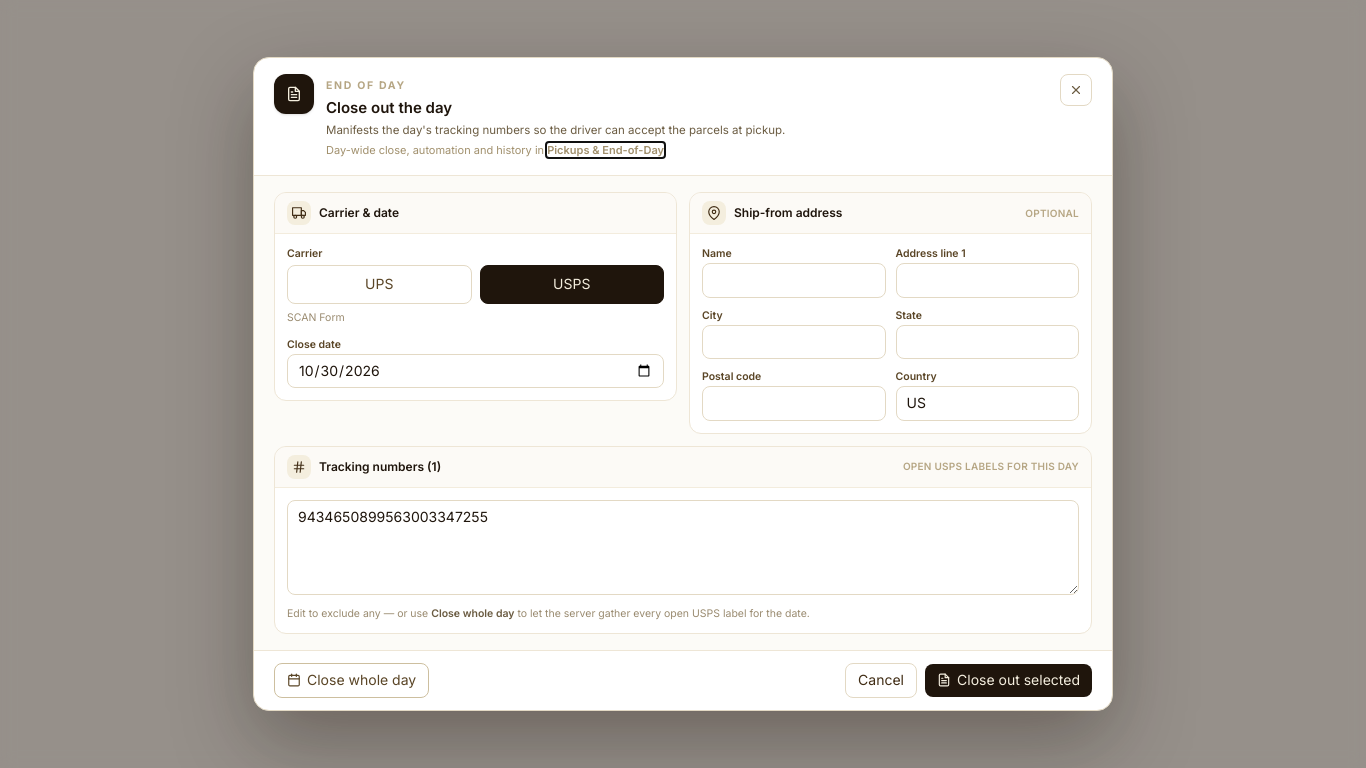
Test case: CloseOutModal › says plainly that the server wasn't reached, inside the dialog (BUG-004)
This screenshot has width=1366, height=768.
Expected: the text box with placeholder "One tracking number per line…" is not empty, 287,500 -> 1079,595
Click the button "Close out selected". click: (1008, 680)
box: 925,664 -> 1092,697
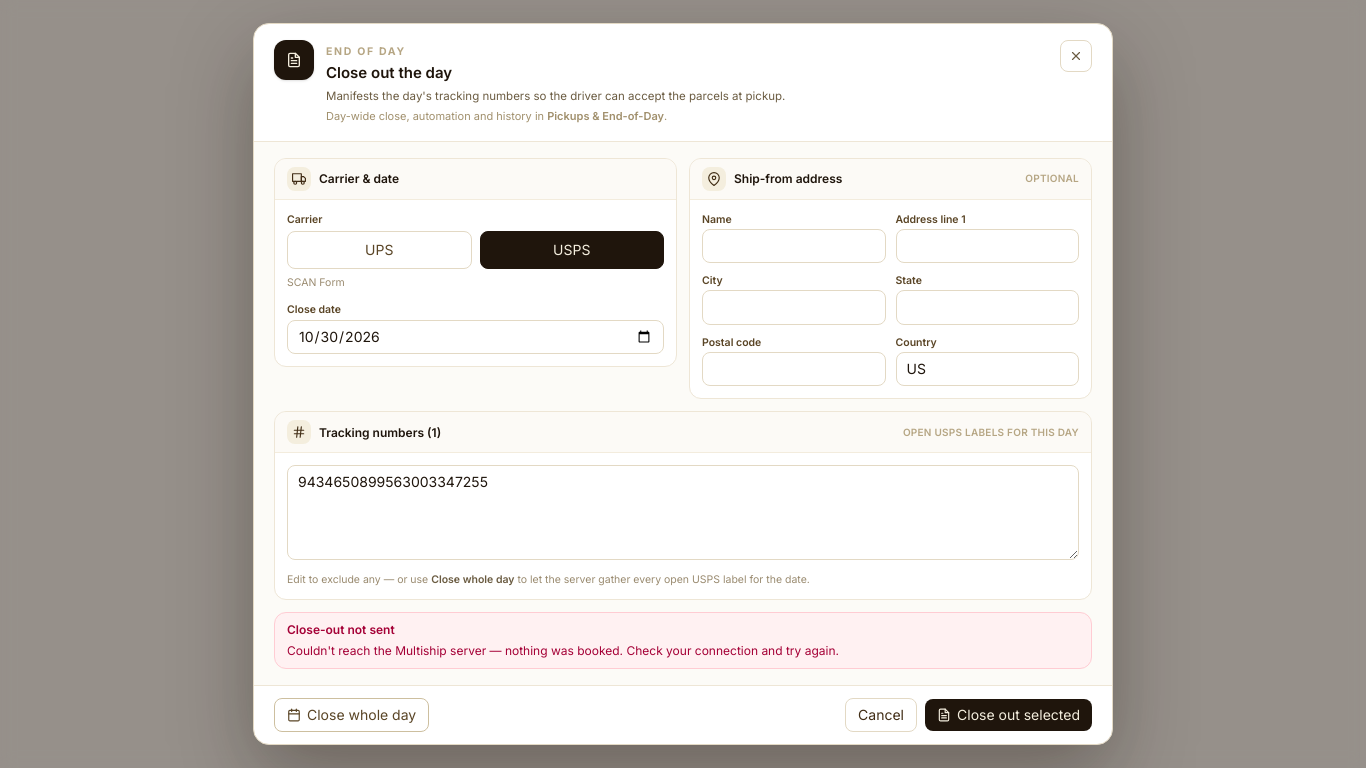
Expected: the text "Couldn't reach the Multiship server — nothing was booked" is shown, 287,643 -> 839,658
